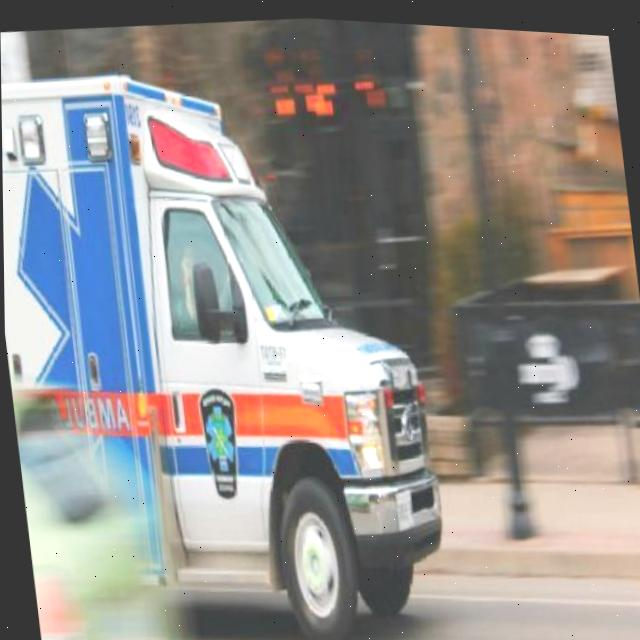emergency: (0, 36, 457, 640)
